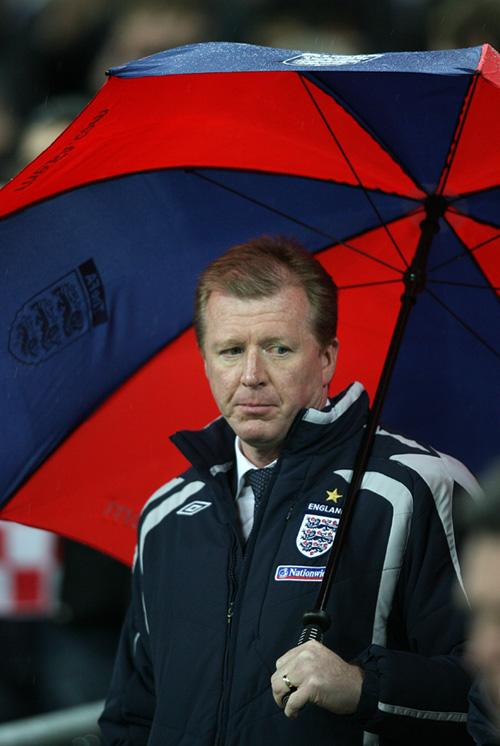person: (94, 231, 500, 746)
